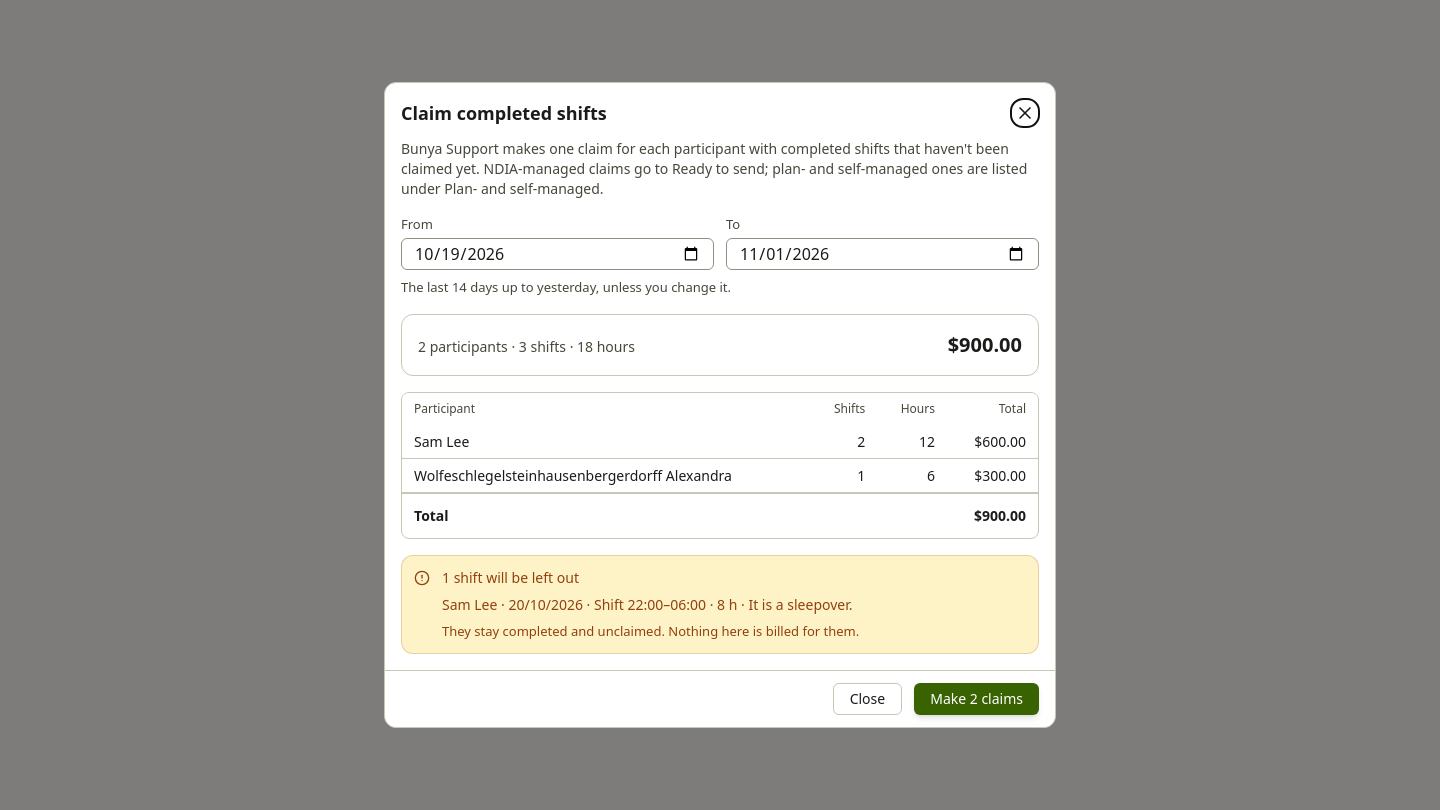
Test: ShiftClaimRunModal › names a participant whose claim failed, and says the others are saved
Click the button "Make 2 claims": coordinates (977, 699) [914,683,1039,715]
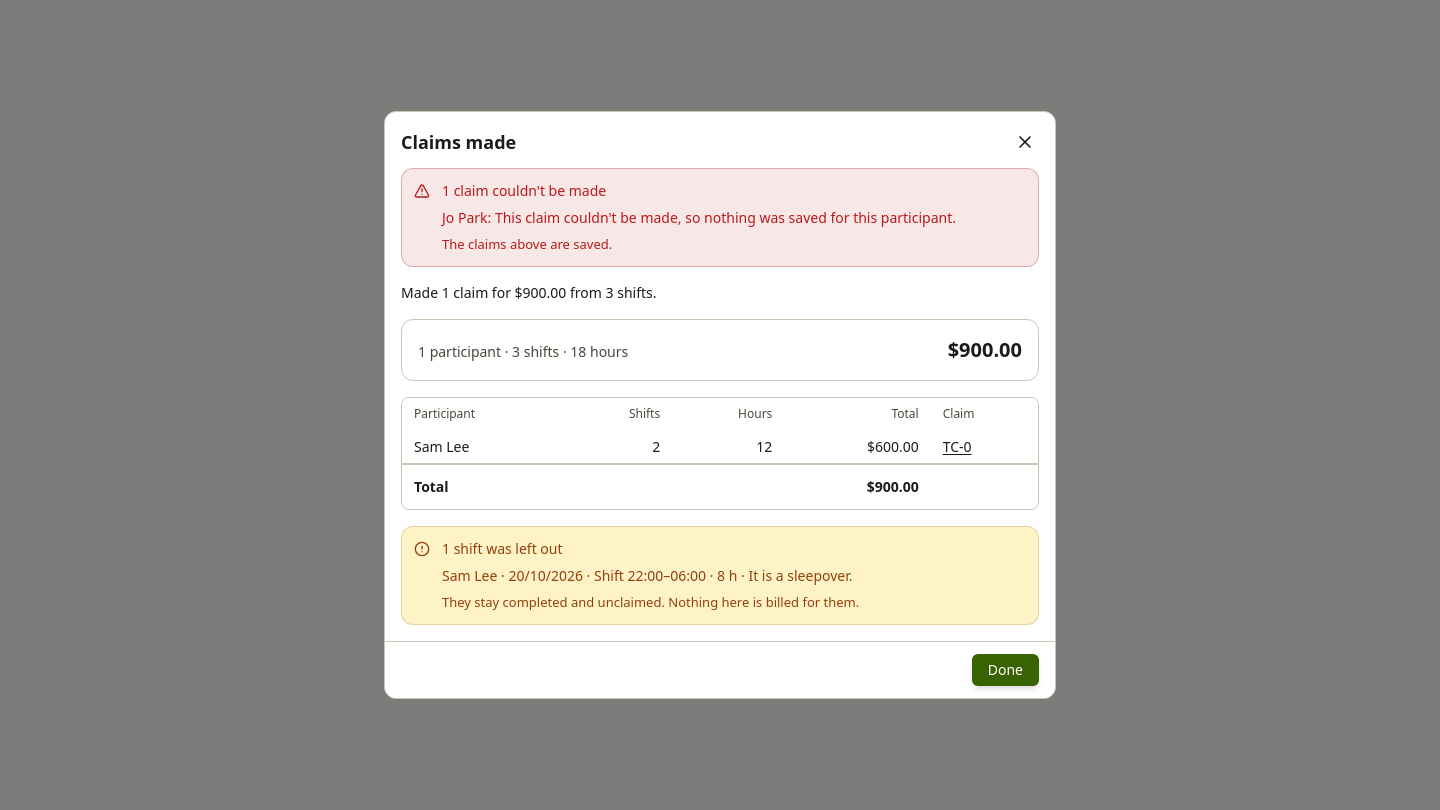
Expected: the text "1 claim couldn't be made" shows "Jo Park: This claim couldn't be made", [401,168,1039,267]
Expected: the text "The claims above are saved." is shown, [442,235,612,253]
Expected: the text "Made 1 claim for $900.00 from 3 shifts." is shown, [401,283,656,302]
